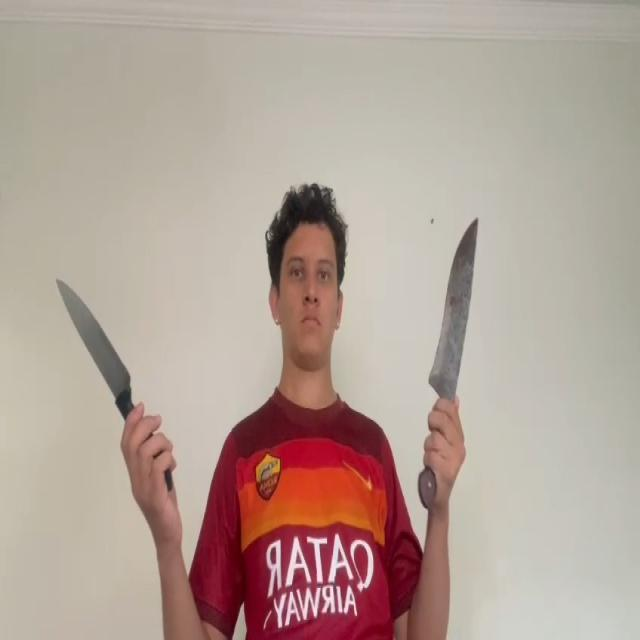knife: (430, 216, 480, 389), (56, 279, 131, 391)
